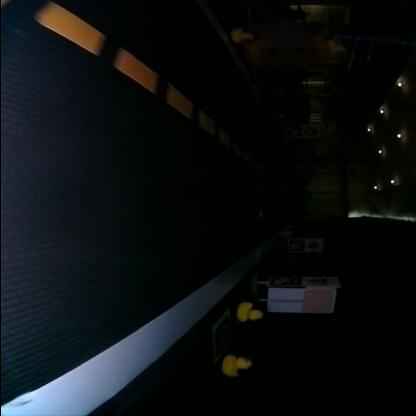Duckie: (222, 354, 250, 375), (236, 303, 260, 321), (230, 27, 252, 40)
Intersection sign: (305, 276, 336, 286), (307, 238, 321, 250)
QR code: (212, 308, 232, 362), (270, 276, 302, 284), (288, 238, 304, 250)
